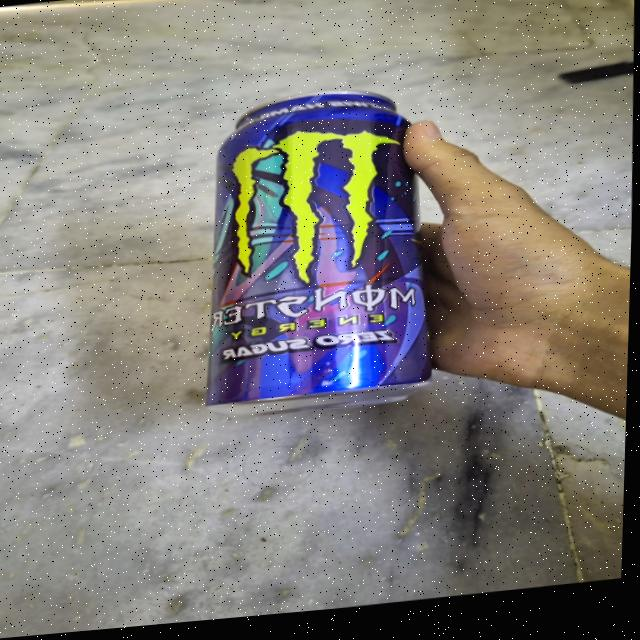Monster LH44: (190, 86, 442, 421)
